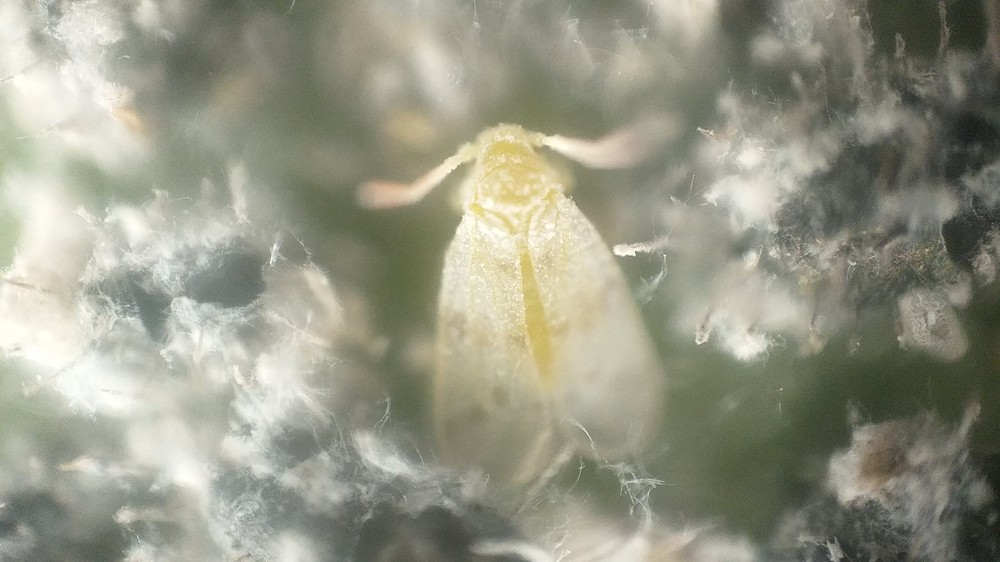Mosca Blanca: (350, 105, 714, 492)
